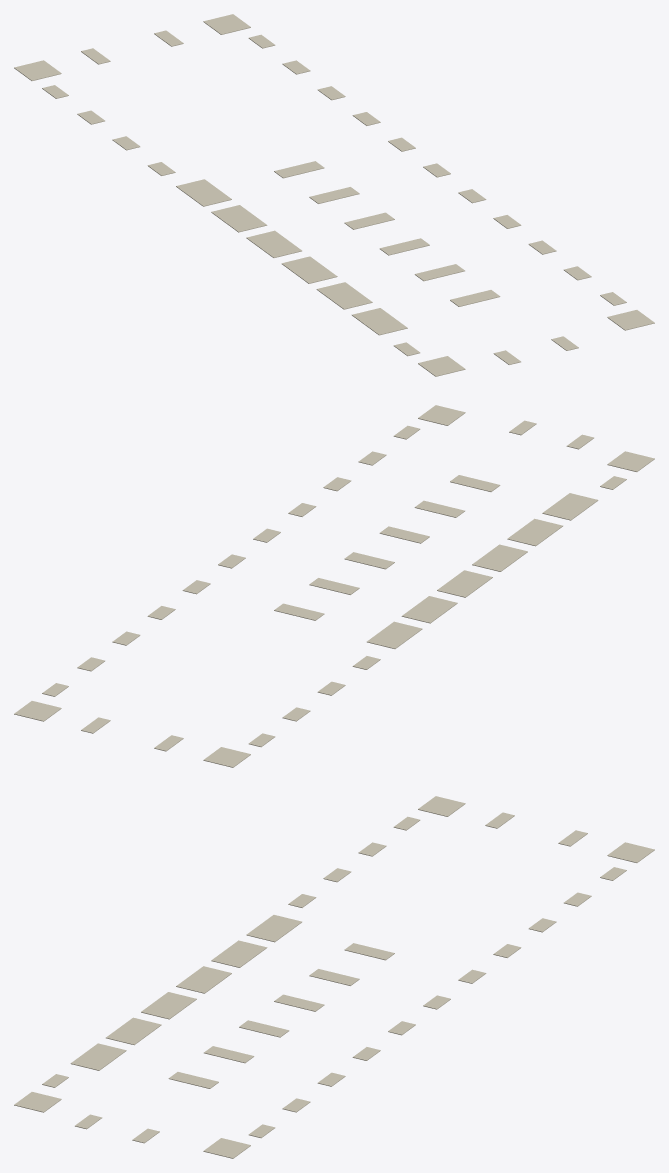
The model's file is lantaikerja.glb.
3 renders of one model, top to bottom at view 1: azimuth 30°, elevation 25°; view 2: azimuth 150°, elevation 25°; view 3: azimuth 330°, elevation 25°, orthographic.
Parts seen in each view (by area): view 1: lantaikerja; view 2: lantaikerja; view 3: lantaikerja.
Boxes of the visible parts, x1,y1,x2,y2 form: lantaikerja: [14, 14, 654, 376]; lantaikerja: [14, 405, 654, 767]; lantaikerja: [14, 796, 654, 1158].
Size of the model in its own units: 18 by 0.05 by 60.9.
